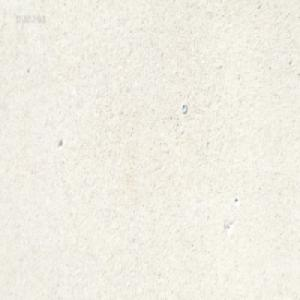Washer: (181, 102, 187, 115)
